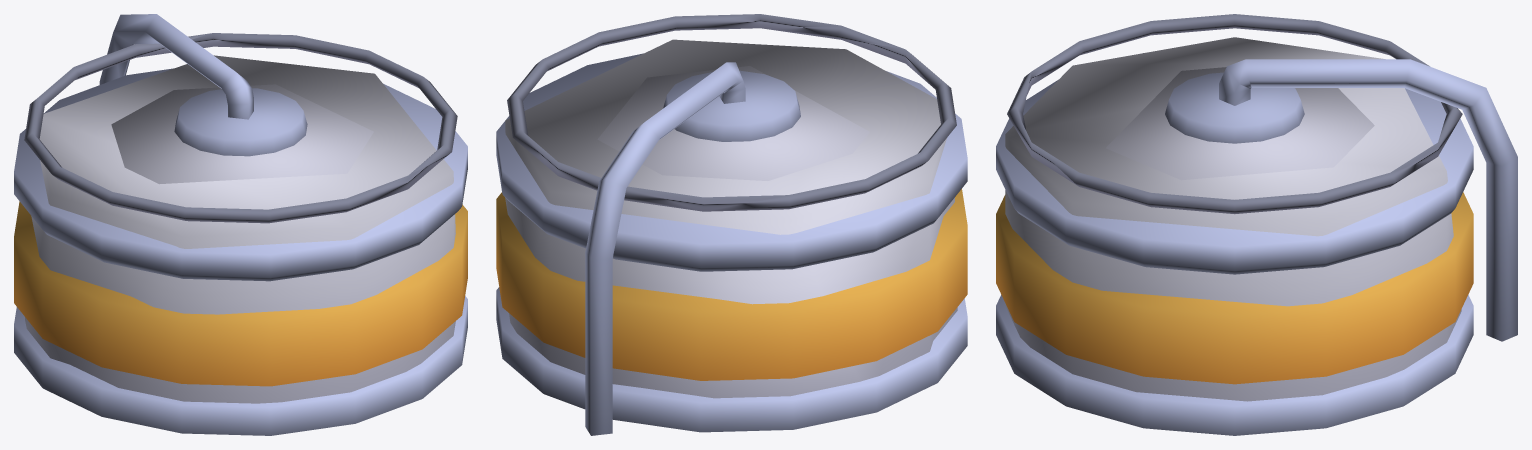
File: tank.glb
3 views of the same model, side by side, from view 1: azimuth 30°, elevation 25°; view 2: azimuth 150°, elevation 25°; view 3: azimuth 270°, elevation 25° (orthographic). The views are drawn at different scales.
Visible parts, largest first — view 1: detail-tank-large; view 2: detail-tank-large; view 3: detail-tank-large.
Part boxes in pixels (<box>): detail-tank-large: <box>14,14,467,435</box>; detail-tank-large: <box>496,14,967,435</box>; detail-tank-large: <box>996,14,1517,435</box>.
Size of the model in its own units: 1.51 by 0.9616 by 1.65.
1 material, 1 textured.
